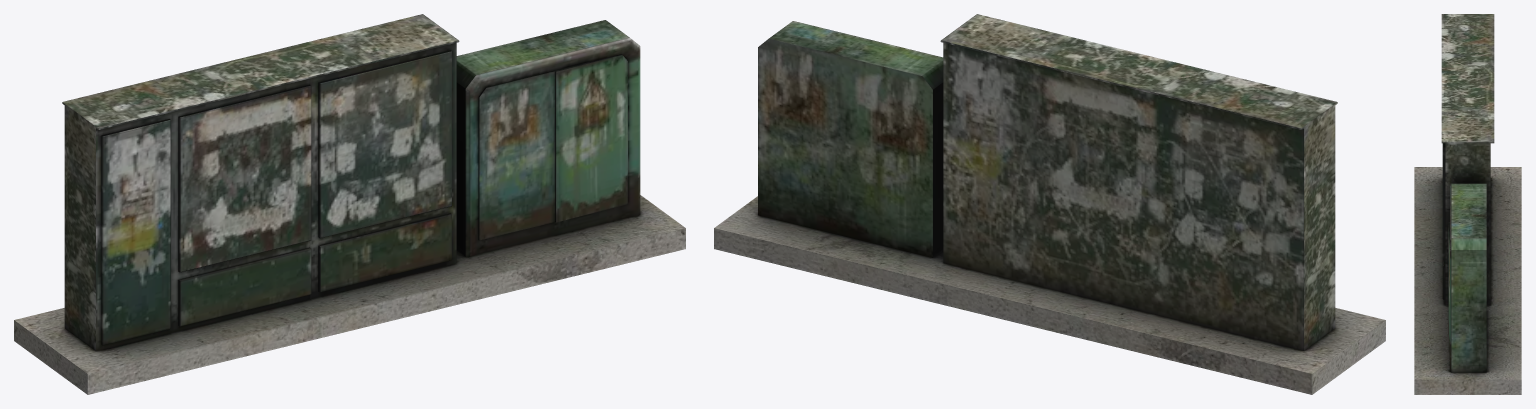
File: electrical_panel_b.glb
3 renders of one model, left to right at view 1: azimuth 30°, elevation 25°; view 2: azimuth 150°, elevation 25°; view 3: azimuth 270°, elevation 25°, orthographic. The views are drawn at different scales.
Parts seen in each view (by area): view 1: panel_02; view 2: panel_02; view 3: panel_02.
Part boxes in pixels (box(x1,y1,x2,y2)): panel_02: box(14, 14, 685, 394); panel_02: box(714, 14, 1385, 394); panel_02: box(1414, 14, 1521, 394).
Bounding box in the file's own units: 3.98 × 1.56 × 0.8501.
Materials: 1 (1 with a texture image).
